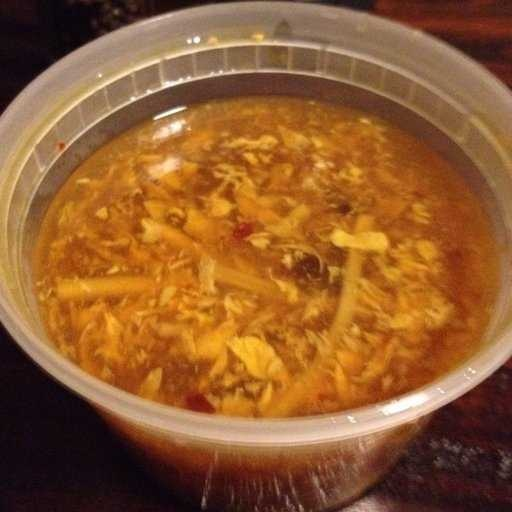soup: (18, 48, 484, 411)
